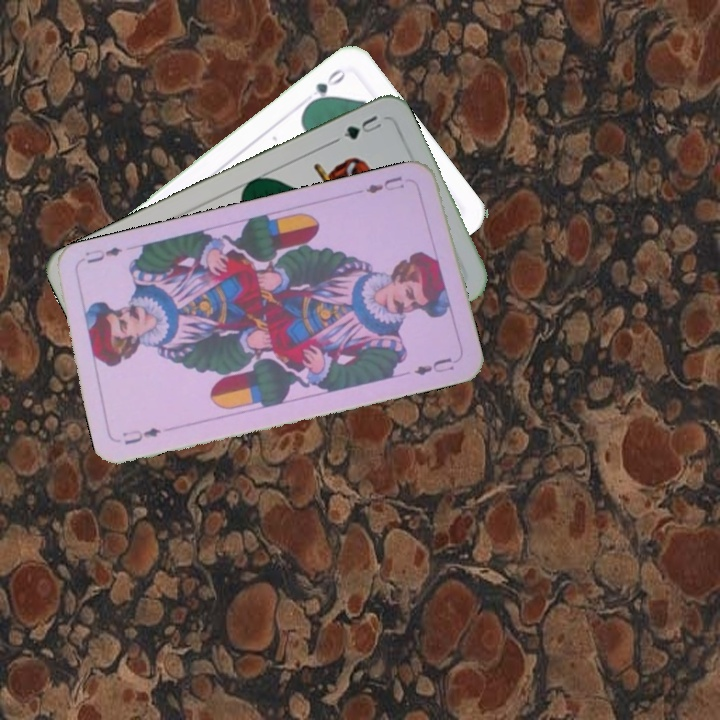EU: (118, 423, 164, 448), (361, 172, 407, 196)
GO: (302, 64, 348, 109)
GU: (339, 111, 384, 142)
